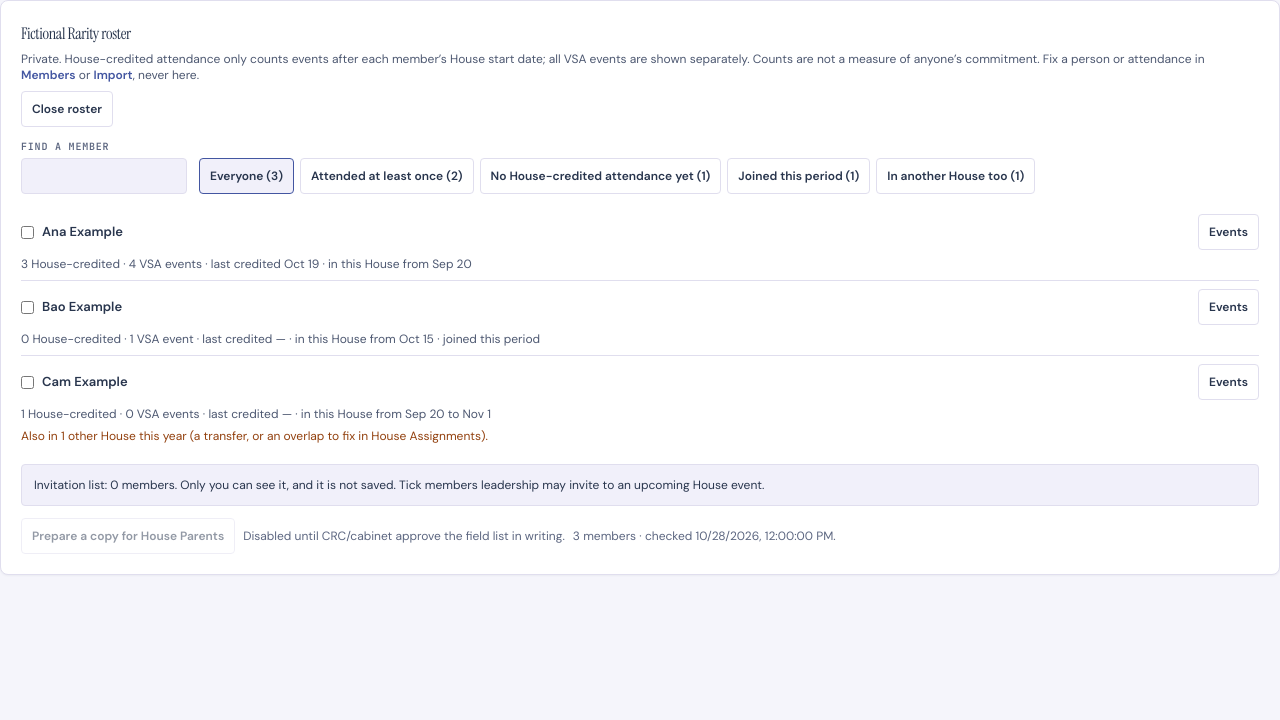
Test: shows the UTC date an evening event was counted on
Step 1. Click the button named "Events for Ana Example" → (1228, 232), box [1198, 214, 1259, 250]
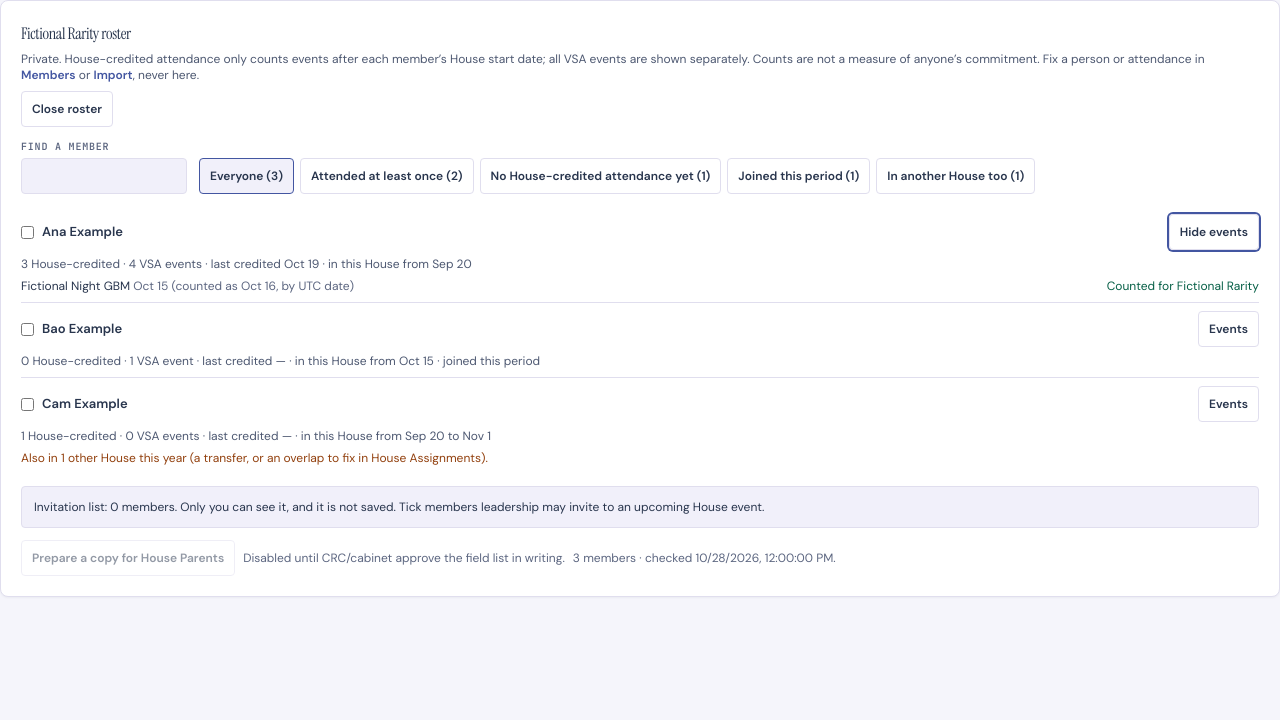
Expected: the text "Oct 15 (counted as Oct 16, by UTC date)" is shown, [133, 278, 354, 294]
